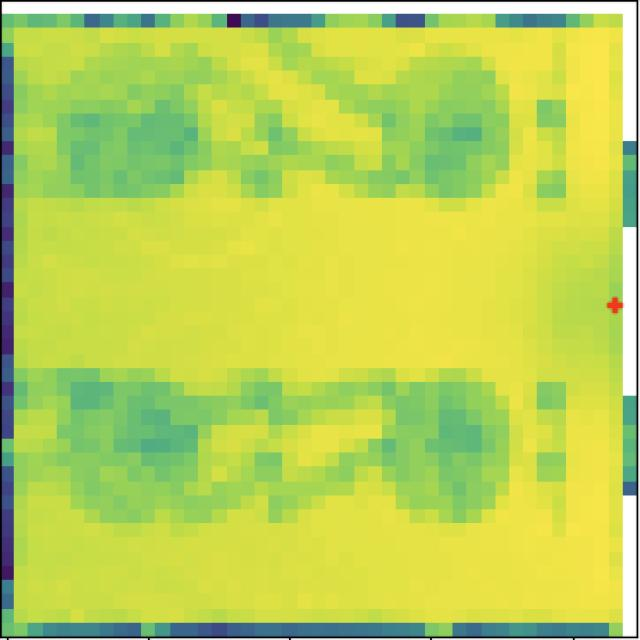Concrete: (65, 366, 230, 530)
Glass: (384, 368, 520, 528)
Metal: (60, 48, 210, 203)
Wood: (362, 48, 516, 204)
